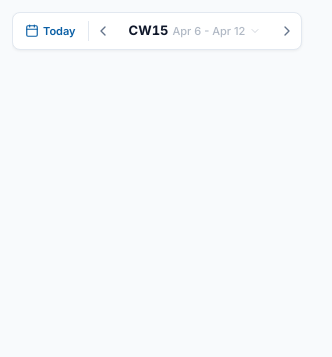
Test case: WeekNavigator — dropdown picker › closes dropdown after picking a week
The image size is (332, 357).
Step 1. Click the button "CW15 Apr 6 - Apr 12" → (195, 31), box [117, 13, 273, 48]
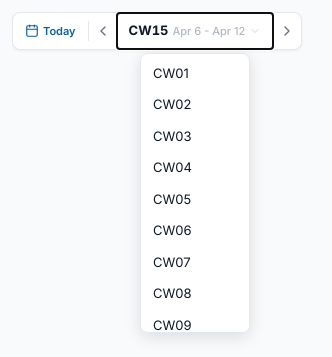
Step 2. Click the button "CW08" → (195, 294), box [141, 278, 249, 310]
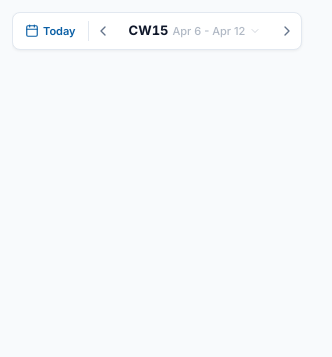
Expected: the element with class "top-full" is gone
